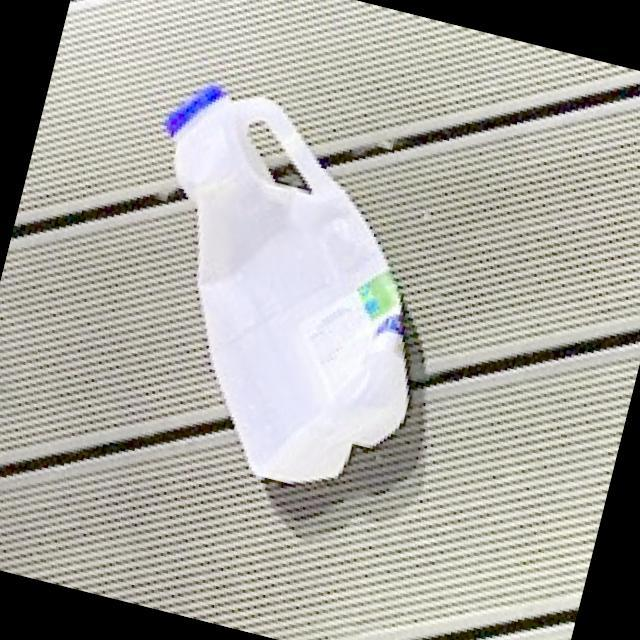HDPE Plastic: (162, 80, 412, 485)
